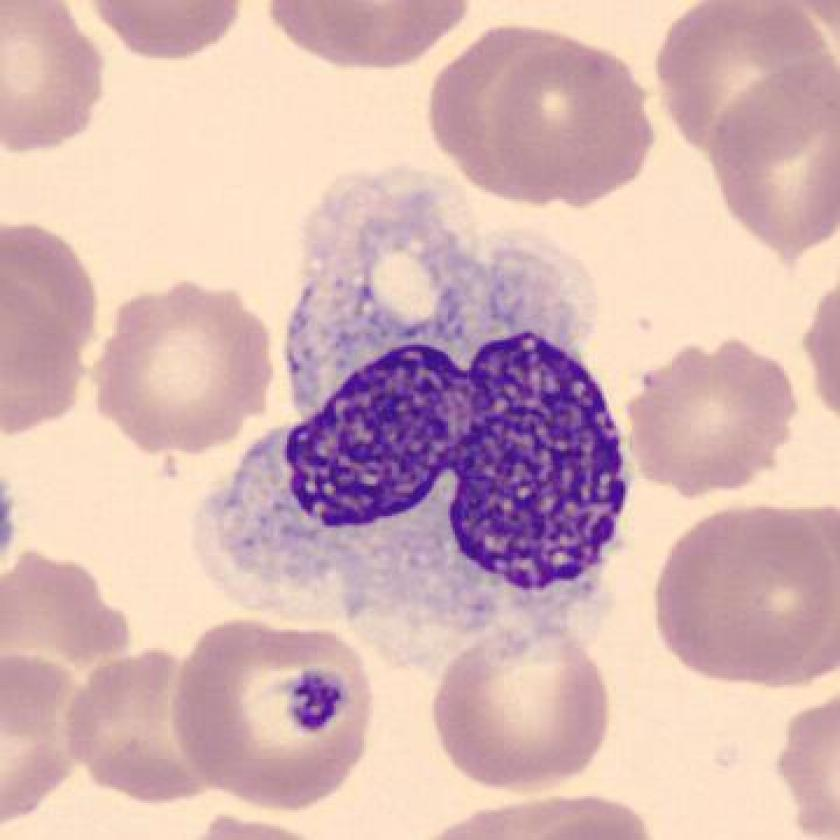monocyte: (190, 147, 661, 672)
